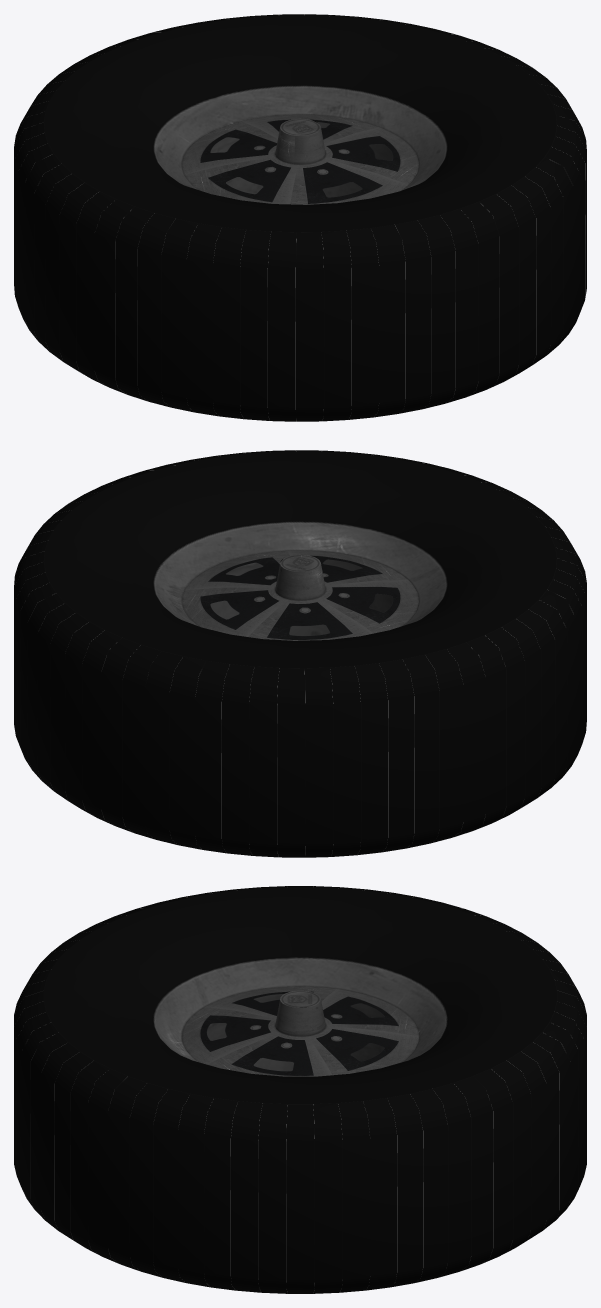
Rendered from low_poly_tire_fixed.glb.
3 views of the same model, one above another, from view 1: azimuth 30°, elevation 25°; view 2: azimuth 150°, elevation 25°; view 3: azimuth 270°, elevation 25° (orthographic).
Parts seen in each view (by area): view 1: Tyre_Rim_LP; view 2: Tyre_Rim_LP; view 3: Tyre_Rim_LP.
Boxes of the visible parts, x1,y1,x2,y2 form: Tyre_Rim_LP: (14,14,586,421); Tyre_Rim_LP: (14,450,586,857); Tyre_Rim_LP: (14,886,586,1293).
Bounding box in the file's own units: 68.82 × 24.58 × 68.82.
1 material, 1 textured.
